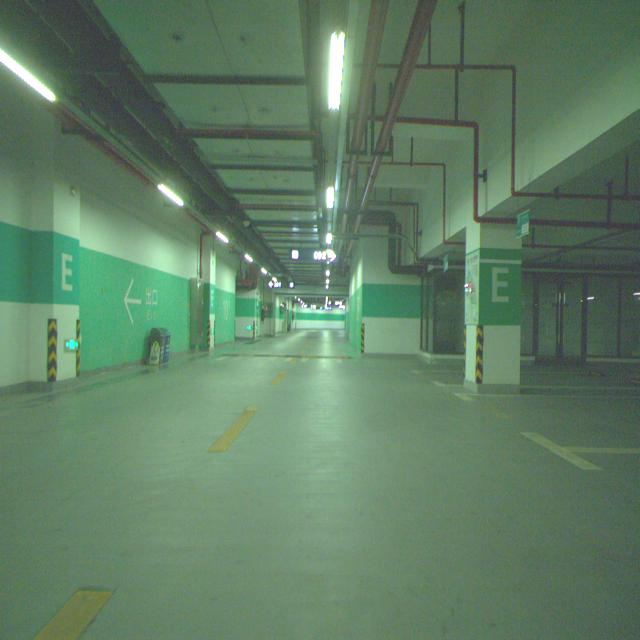pillar: (465, 222, 521, 388)
wall: (29, 162, 80, 394)
